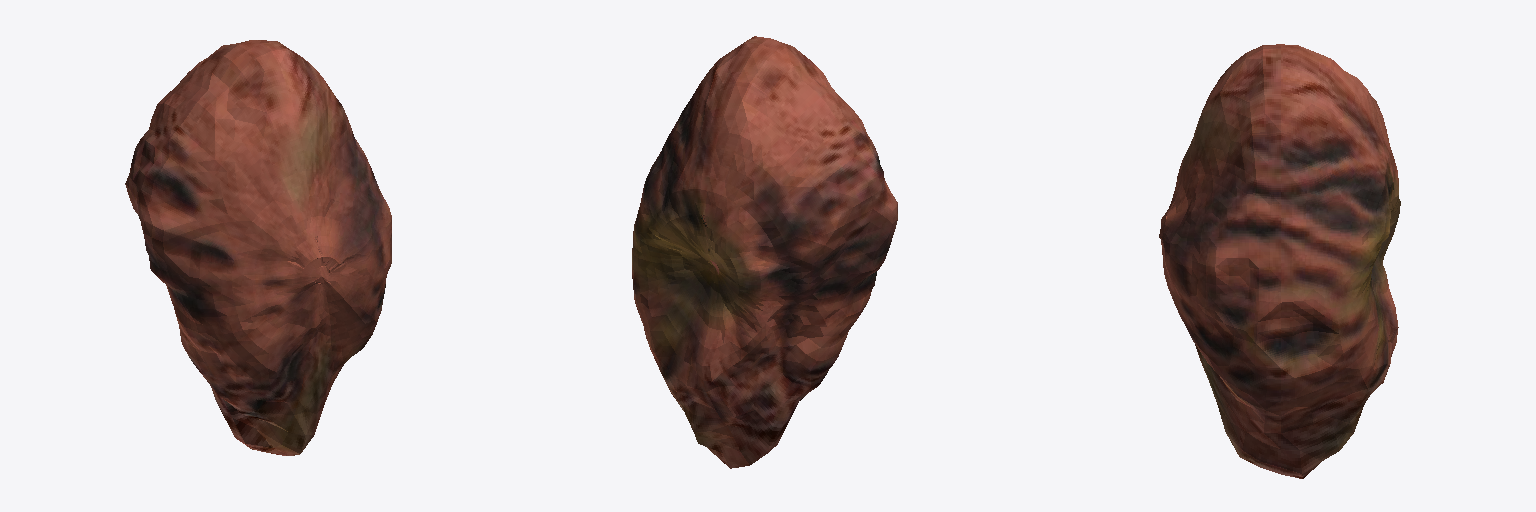
The picture shows the model from 3 angles: view 1: azimuth 30°, elevation 25°; view 2: azimuth 150°, elevation 25°; view 3: azimuth 270°, elevation 25°; orthographic projection.
Size of the model in its own units: 157 by 267 by 139.
1 materials, 1 textured.